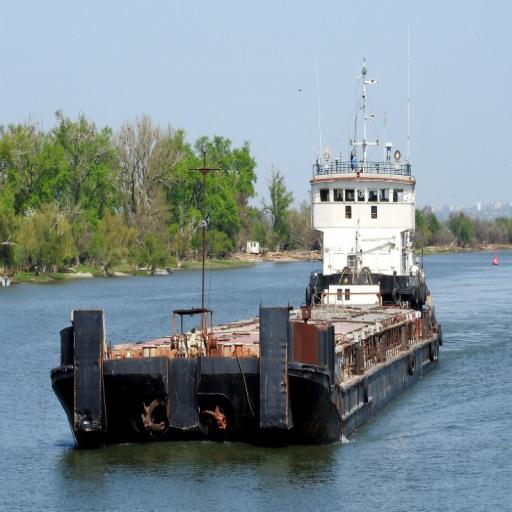tugboat: (50, 142, 447, 453)
